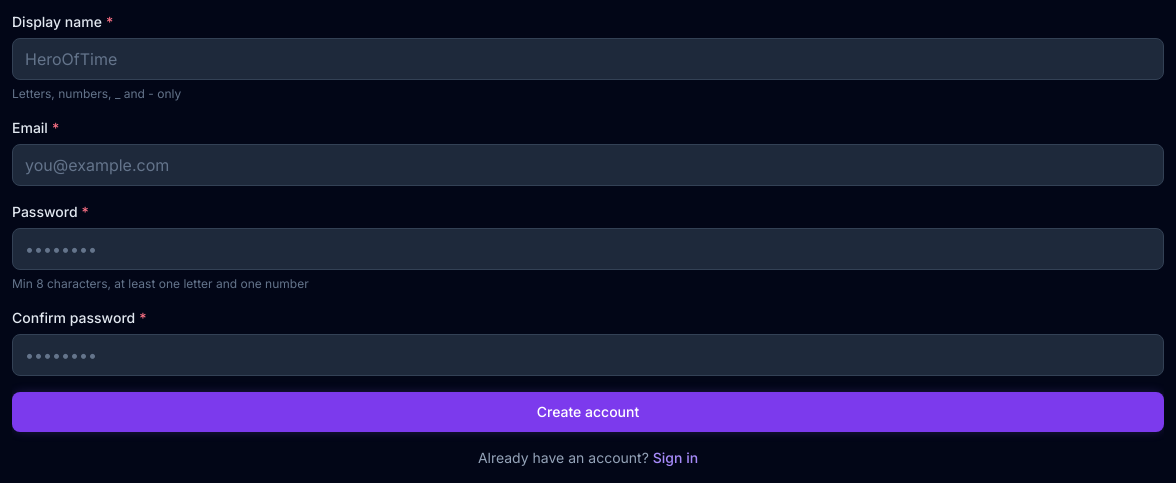
RegisterForm › shows "At least 8 characters" when password is too short
Type "Hero123" into the field labelled "Display name*" at (588, 59), box [12,38,1164,80]
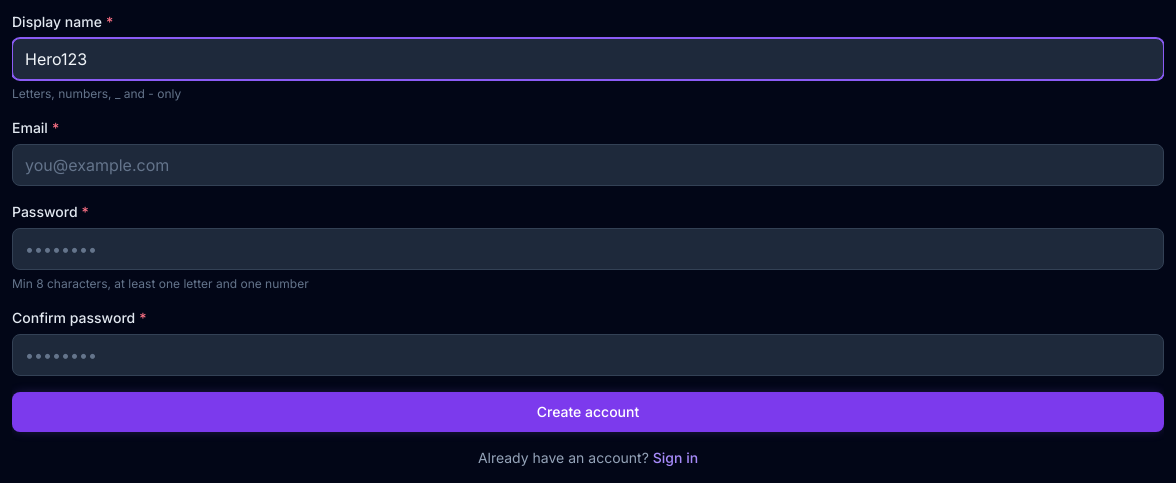
Type "hero@example.com" into the field labelled "Email*" at (588, 165), box [12,144,1164,186]
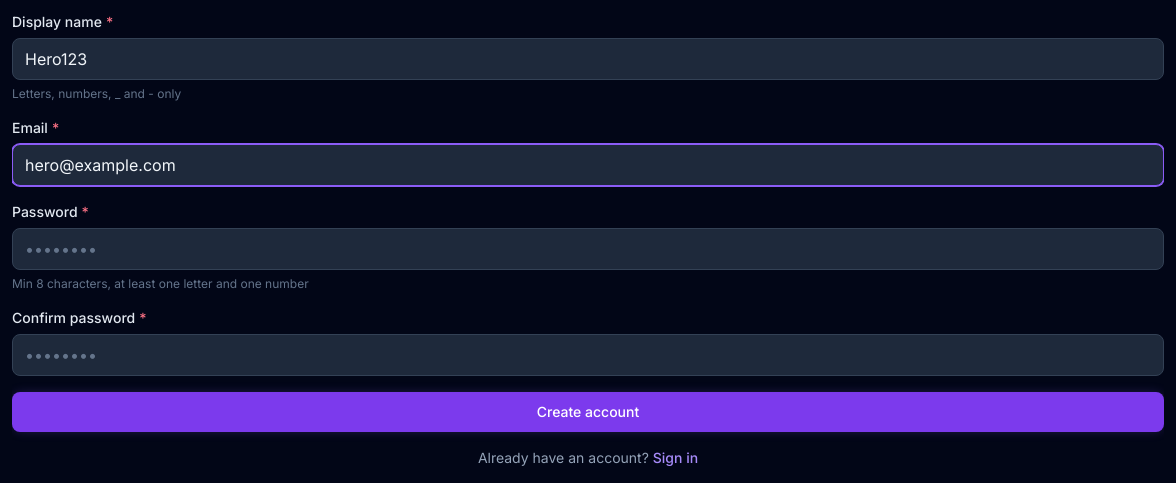
Type "Pass1" into the password field labelled "Password*" at (588, 249), box [12,228,1164,270]
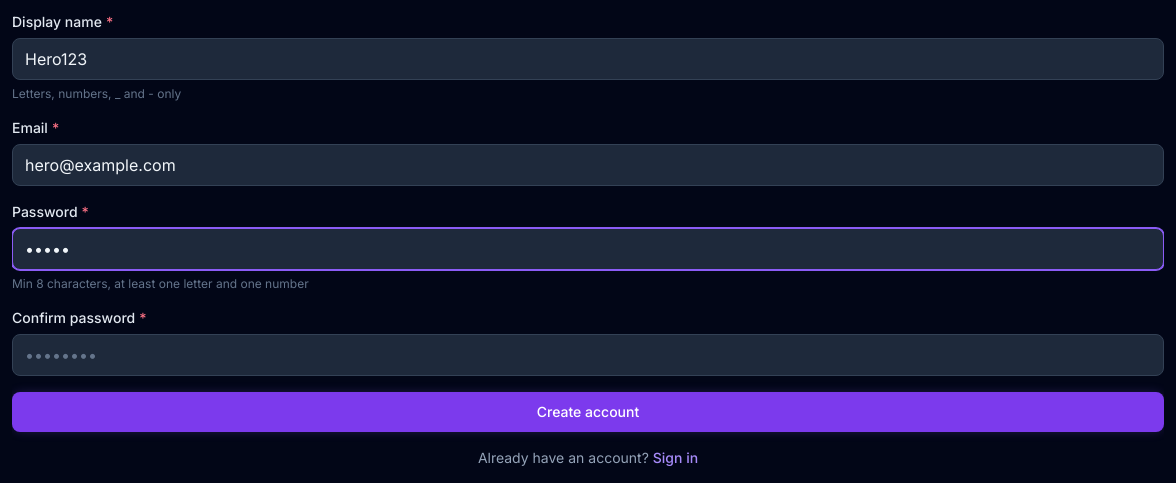
Type "Pass1" into the password field labelled "Confirm password*" at (588, 355), box [12,334,1164,376]
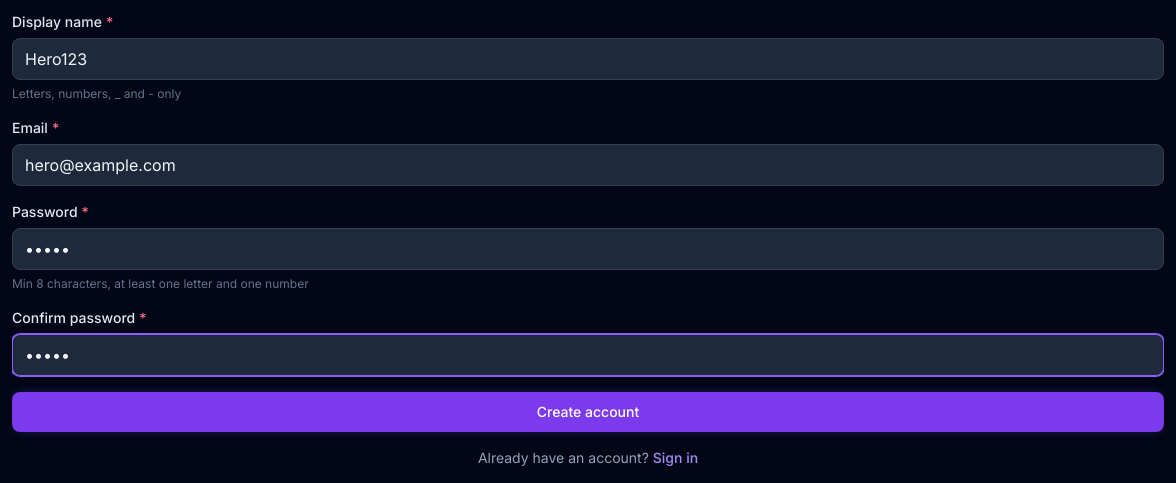
Click the button "Create account" at (588, 412), box [12,392,1164,432]
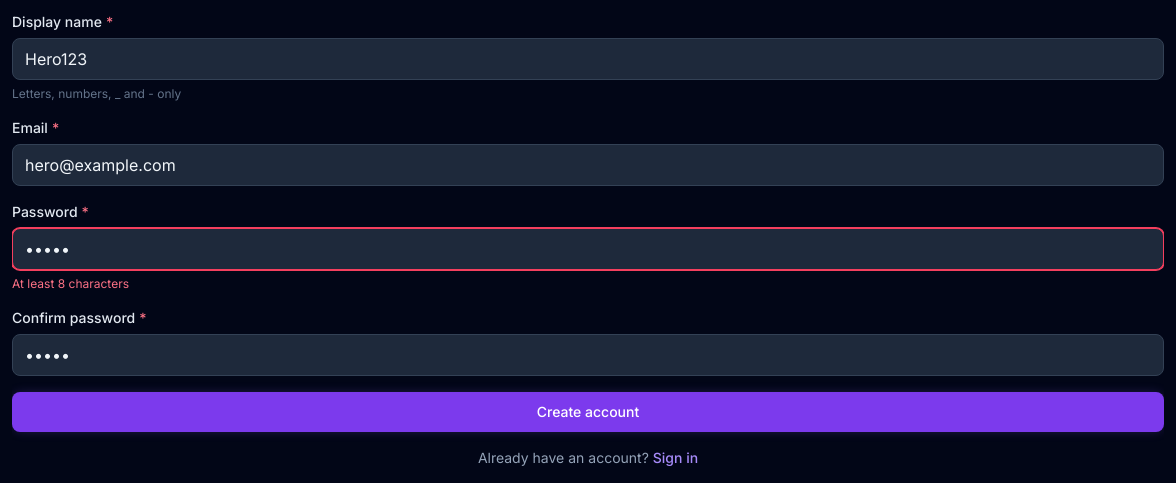
Check: the text "At least 8 characters" is shown, box [12,276,129,291]
